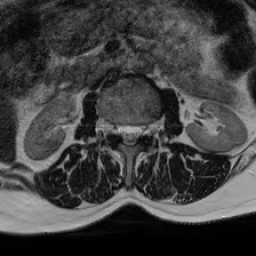CCS_normal: (125, 116, 133, 153)
LFS_normal: (141, 115, 150, 142)
LLS_normal: (133, 116, 141, 149)
RFS_normal: (109, 114, 117, 142)
RLS_normal: (117, 116, 125, 146)
